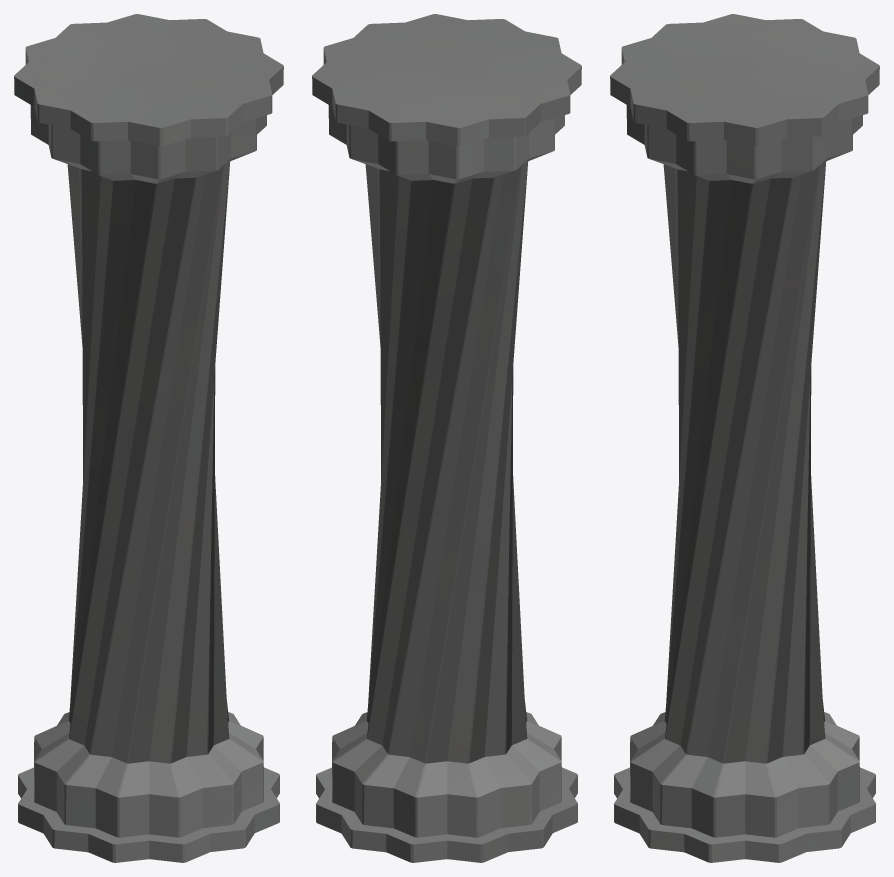
The model's file is Pillar_6.fbx.
3 views of the same model, side by side, from view 1: azimuth 30°, elevation 25°; view 2: azimuth 150°, elevation 25°; view 3: azimuth 270°, elevation 25° (orthographic).
Parts seen in each view (by area): view 1: Pillar 6; view 2: Pillar 6; view 3: Pillar 6.
Part boxes in pixels (x1,y1,x2,y2): Pillar 6: [14, 14, 283, 862]; Pillar 6: [312, 14, 581, 862]; Pillar 6: [610, 14, 879, 862].
Size of the model in its own units: 82.86 by 250 by 82.86.
